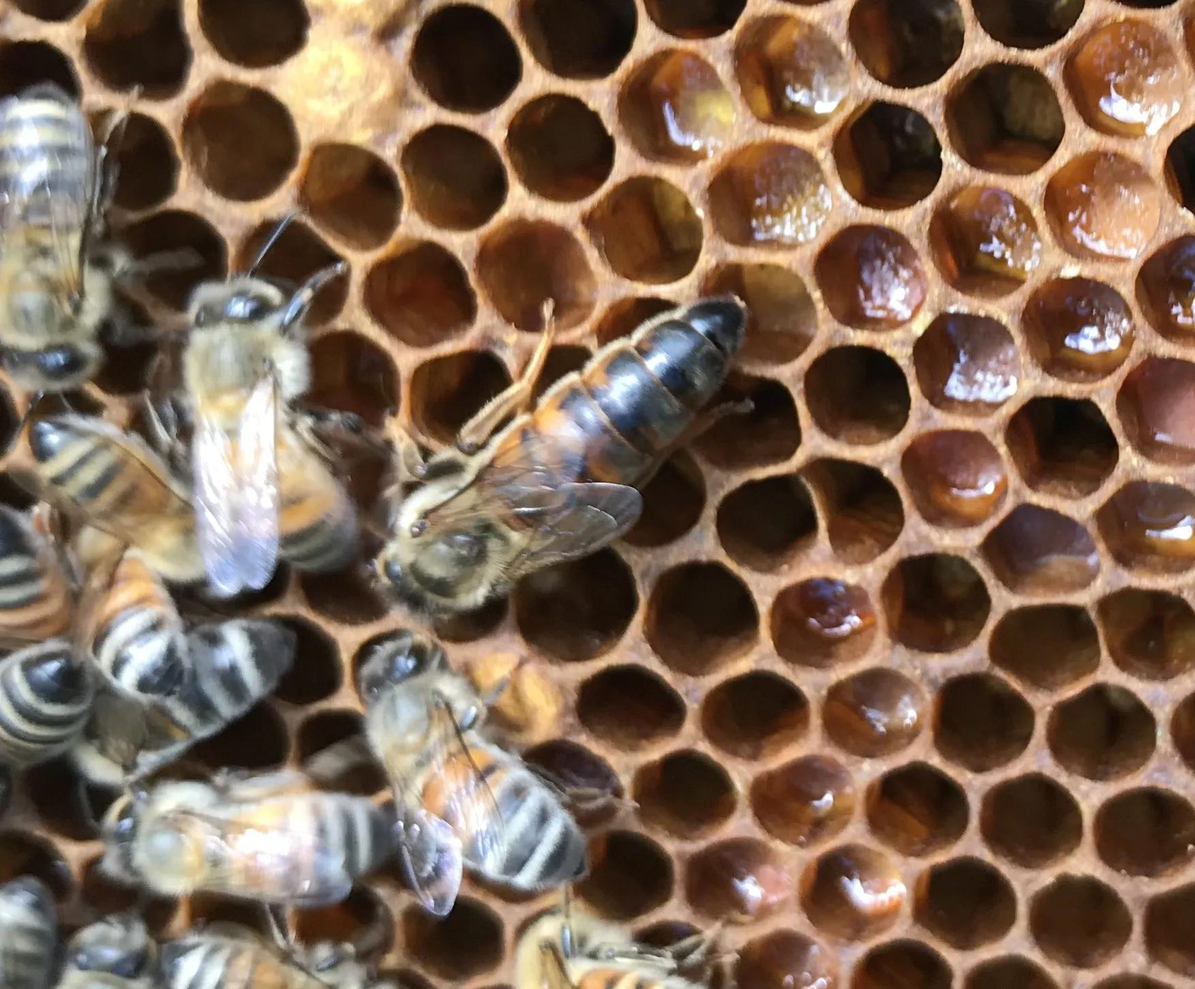Queen-Bee: (374, 294, 749, 615)
worker-bee: (357, 629, 587, 915), (180, 245, 363, 596), (0, 82, 147, 396), (100, 770, 394, 910), (70, 618, 296, 787), (26, 413, 206, 584), (82, 552, 192, 699), (0, 638, 94, 769)
